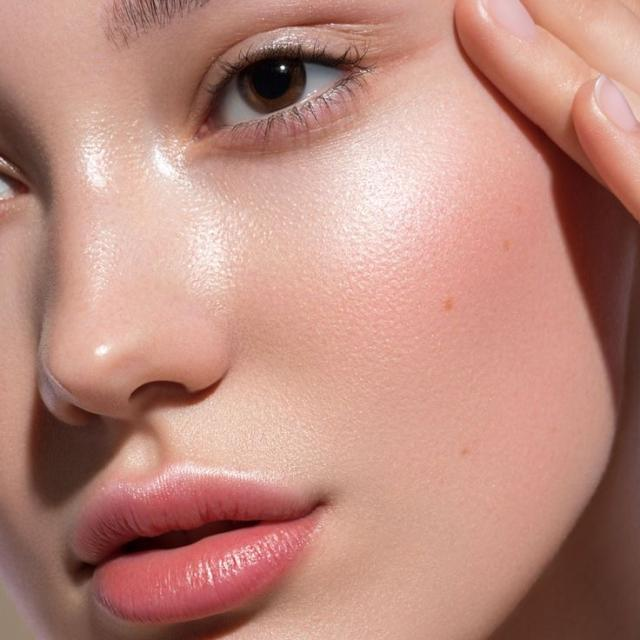oily: (101, 218, 296, 459), (316, 260, 450, 434), (370, 153, 513, 292), (494, 407, 612, 565), (26, 5, 122, 141), (374, 516, 475, 640), (308, 440, 380, 583), (381, 378, 527, 420)
